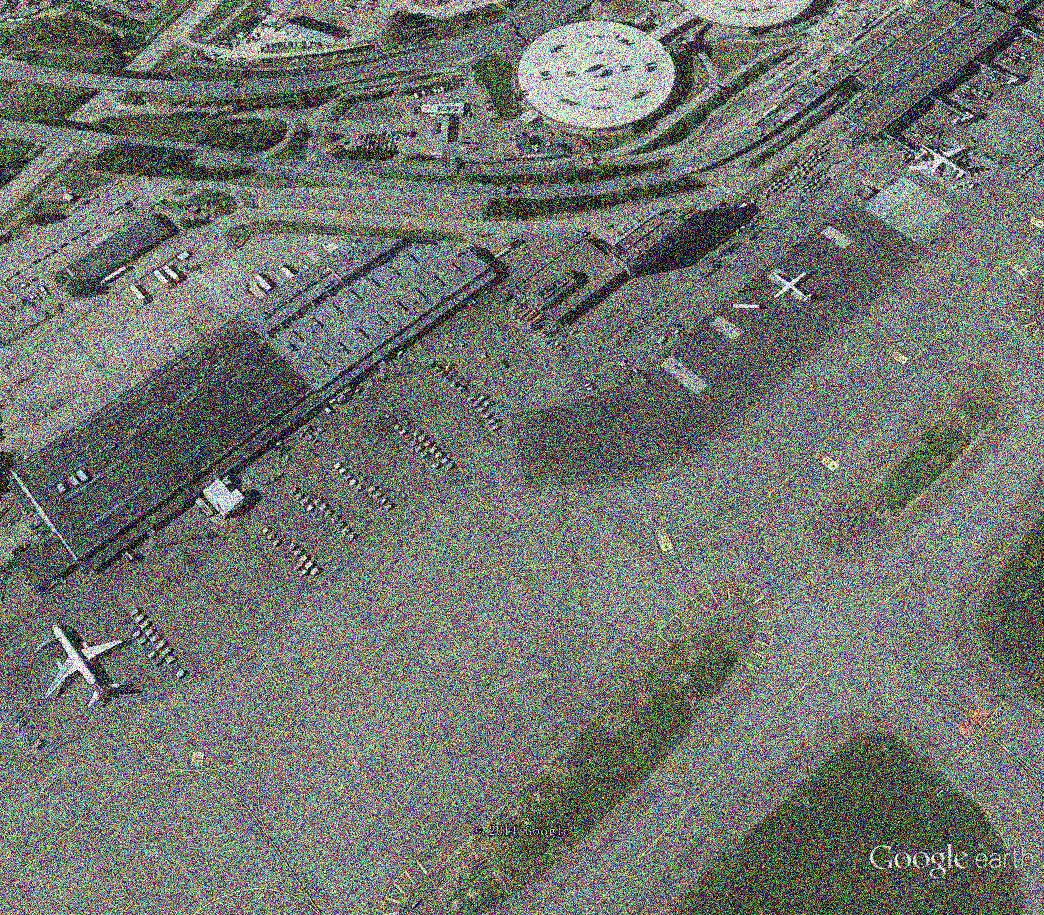aircraft: (40, 624, 129, 712), (925, 142, 976, 182), (771, 270, 815, 306)
